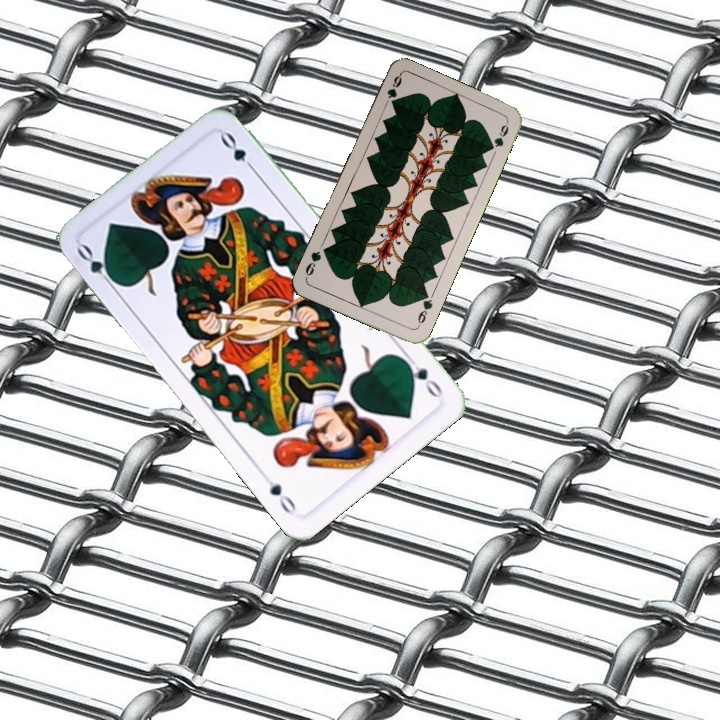G9: (380, 71, 404, 110), (413, 289, 435, 330)
GO: (73, 240, 121, 292), (399, 350, 445, 401)
